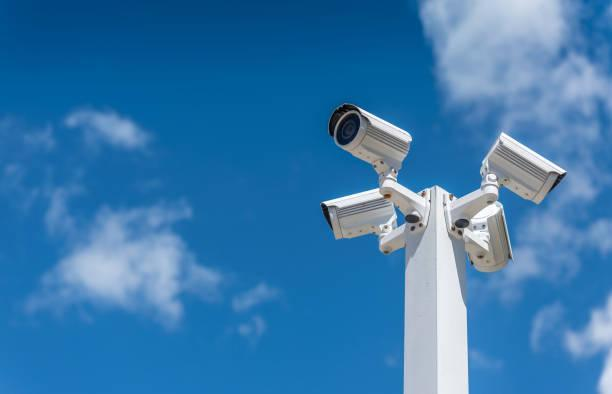camera: (319, 94, 419, 186), (297, 181, 422, 245), (477, 122, 573, 205), (443, 195, 521, 279)
